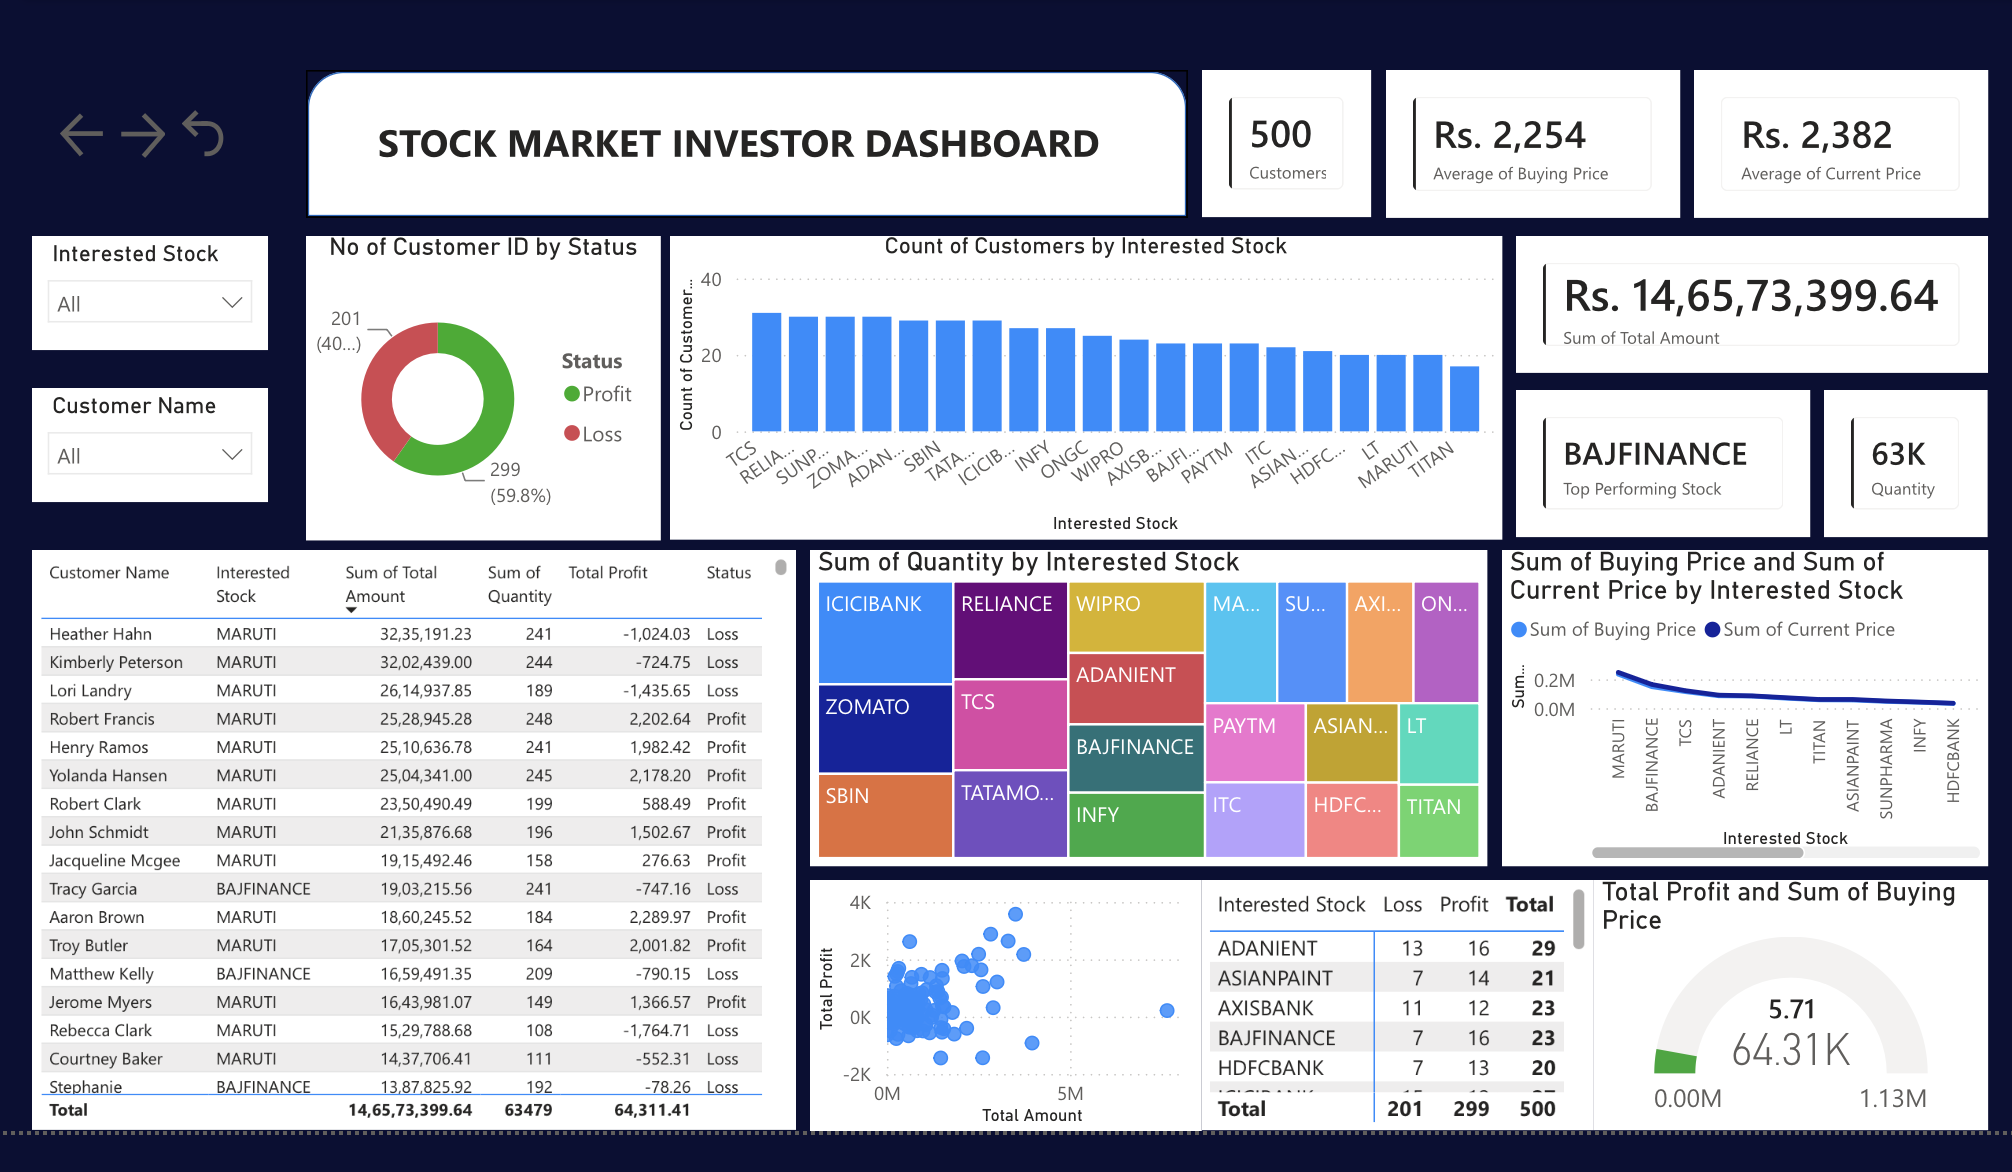

What the dashboard file says about the page in this screenshot:
{"tool":"powerbi","page":{"name":"Page 1","canvas":[1280,720],"ordinal":0},"visuals":[{"type":"cardVisual","fields":{"Data":["CountNonNull(tb.SlNo)"]},"box":[764.9,46.1,107.6,93.5],"z":0},{"type":"cardVisual","fields":{"Data":["Sum(tb.Total Amount)"]},"box":[964.8,151.2,299.8,87.1],"z":1000},{"type":"treemap","fields":{"Group":["tb.Interested Stock"],"Values":["Sum(tb.Quantity)"]},"box":[516.4,351.1,430.5,201.2],"z":2000},{"type":"cardVisual","fields":{"Data":["tb.Top Performing Stock"]},"box":[964.8,248.6,187.1,93.5],"z":3000},{"type":"donutChart","title":"No of Customer ID by Status","fields":{"Category":["tb.Status"],"Y":["CountNonNull(tb.Customer ID)"]},"box":[196,151.2,225.5,193.5],"z":4000},{"type":"cardVisual","fields":{"Data":["Sum(tb.Quantity)"]},"box":[1160.8,248.6,103.8,93.5],"z":5000},{"type":"cardVisual","fields":{"Data":["Avg(tb.Current Price)"]},"box":[1077.9,45.8,186.9,94.1],"z":6000},{"type":"cardVisual","fields":{"Data":["Avg(tb.Buying Price)"]},"box":[882.1,45.8,186.9,94.1],"z":7000},{"type":"tableEx","fields":{"Values":["tb.Customer Name","tb.Interested Stock","Sum(tb.Total Amount)","Sum(tb.Quantity)","tb.Total Profit","tb.Status"]},"box":[21.6,350.8,485.6,368.6],"z":8000},{"type":"gauge","fields":{"MaxValue":["Sum(tb.Buying Price)"],"Y":["tb.Total Profit"]},"box":[1014.3,560.6,250.4,158.9],"z":9000},{"type":"cardVisual","fields":{"Data":["tb.Total Profit Percentage"]},"box":[1119.8,626.7,41.9,28],"z":10000},{"type":"clusteredColumnChart","title":"Count of Customers by Interested Stock","fields":{"Category":["tb.Interested Stock"],"Y":["Count(tb.Customer Name)"]},"box":[427.1,151.3,528.8,193.2],"z":11000},{"type":"lineChart","fields":{"Category":["tb.Interested Stock"],"Y":["Sum(tb.Buying Price)","Sum(tb.Current Price)"]},"box":[955.8,351.1,308.8,201.2],"z":12000},{"type":"pivotTable","fields":{"Columns":["tb.Status"],"Rows":["tb.Interested Stock"],"Values":["CountNonNull(tb.Status)"]},"box":[765.2,560.6,249.1,158.9],"z":13000},{"type":"scatterChart","fields":{"Category":["tb.Quantity"],"X":["Sum(tb.Total Amount)"],"Y":["tb.Total Profit"]},"box":[516.1,560.6,249.1,160.2],"z":14000},{"type":"slicer","fields":{"Values":["tb.Interested Stock"]},"box":[21.6,151.3,150,72.5],"z":15000},{"type":"slicer","fields":{"Values":["tb.Customer Name"]},"box":[21.6,247.9,150,72.5],"z":16000},{"type":"shape","box":[195.7,45.8,560.6,94.1],"z":17000},{"type":"textbox","box":[236.4,69.9,479.2,57.2],"z":18000},{"type":"actionButton","box":[35.7,68.3,36.9,36.9],"z":19000},{"type":"actionButton","box":[72.6,67,38.1,39.4],"z":20000},{"type":"actionButton","box":[110.7,65.7,43.2,39.4],"z":21000}]}

Visuals, with their boxes in screenshot pixels (x1, y1, x2, y2):
cardVisual - CountNonNull(tb.SlNo): [left=1201, top=71, right=1368, bottom=216]
cardVisual - Sum(tb.Total Amount): [left=1511, top=234, right=1976, bottom=369]
treemap - tb.Interested Stock x Sum(tb.Quantity): [left=816, top=544, right=1484, bottom=856]
cardVisual - tb.Top Performing Stock: [left=1511, top=385, right=1801, bottom=530]
"No of Customer ID by Status" donutChart: [left=320, top=234, right=669, bottom=534]
cardVisual - Sum(tb.Quantity): [left=1815, top=385, right=1976, bottom=530]
cardVisual - Avg(tb.Current Price): [left=1687, top=71, right=1976, bottom=217]
cardVisual - Avg(tb.Buying Price): [left=1383, top=71, right=1673, bottom=217]
tableEx - tb.Customer Name x tb.Interested Stock: [left=49, top=544, right=802, bottom=1115]
gauge - Sum(tb.Buying Price) x tb.Total Profit: [left=1588, top=869, right=1976, bottom=1115]
cardVisual - tb.Total Profit Percentage: [left=1752, top=971, right=1817, bottom=1015]
"Count of Customers by Interested Stock" clusteredColumnChart: [left=678, top=235, right=1498, bottom=534]
lineChart - tb.Interested Stock x Sum(tb.Buying Price): [left=1497, top=544, right=1976, bottom=856]
pivotTable - tb.Status x tb.Interested Stock: [left=1202, top=869, right=1588, bottom=1115]
scatterChart - tb.Quantity x Sum(tb.Total Amount): [left=816, top=869, right=1202, bottom=1117]
slicer - tb.Interested Stock: [left=49, top=235, right=282, bottom=347]
slicer - tb.Customer Name: [left=49, top=384, right=282, bottom=497]
shape: [left=319, top=71, right=1188, bottom=217]
textbox: [left=382, top=108, right=1125, bottom=197]
actionButton: [left=71, top=106, right=128, bottom=163]
actionButton: [left=128, top=104, right=187, bottom=165]
actionButton: [left=187, top=102, right=254, bottom=163]
